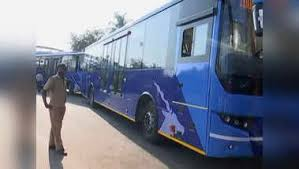Chigari: (74, 2, 277, 160), (35, 44, 81, 101)
Human: (42, 64, 76, 158)
